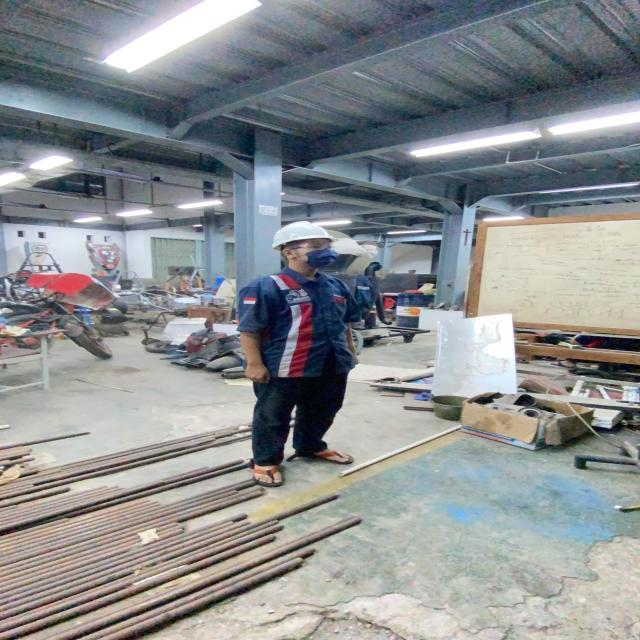glasses: (288, 238, 338, 250)
